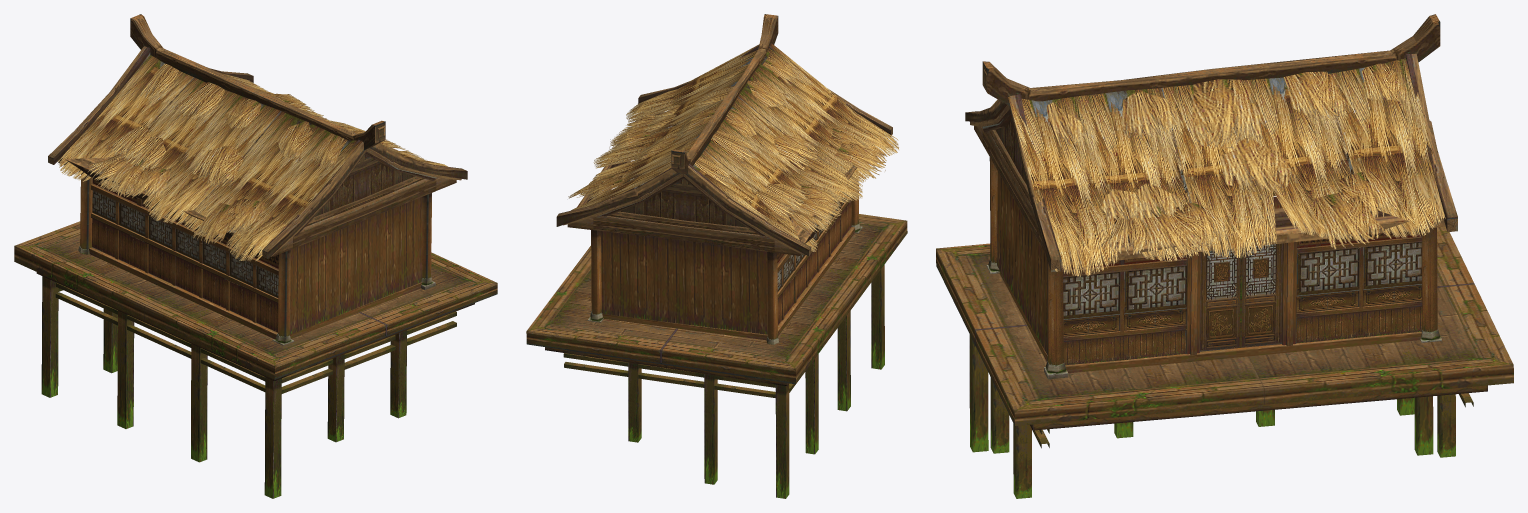
File: 1004_Item_caofang_4.FBX
The picture shows the model from 3 angles, left to right: view 1: azimuth 30°, elevation 25°; view 2: azimuth 150°, elevation 25°; view 3: azimuth 270°, elevation 25°; orthographic projection. The views are drawn at different scales.
Parts seen in each view (by area): view 1: 1004_Item_caofang_4; view 2: 1004_Item_caofang_4; view 3: 1004_Item_caofang_4.
Part boxes in pixels (box(x1,y1,x2,y2)): 1004_Item_caofang_4: box(14, 14, 497, 498); 1004_Item_caofang_4: box(526, 14, 907, 498); 1004_Item_caofang_4: box(936, 14, 1513, 498).
Size of the model in its own units: 1054 by 1229 by 1073.
